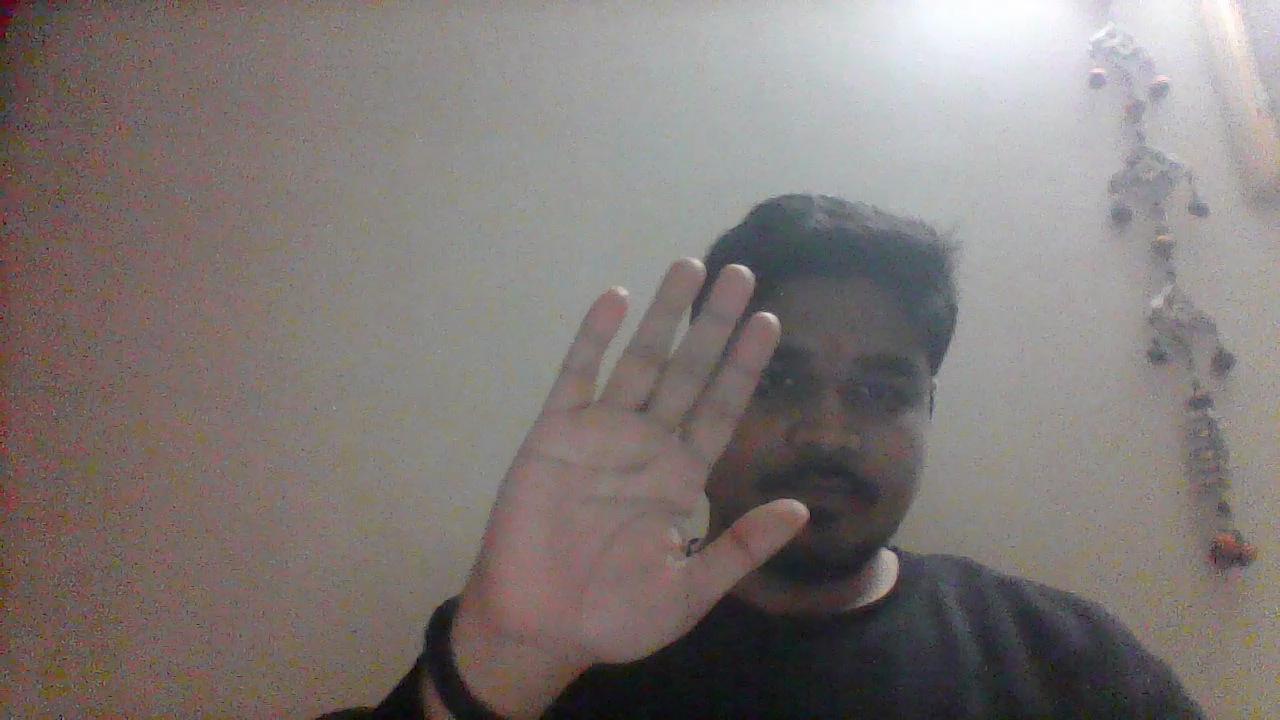Hello: (470, 257, 797, 664)
